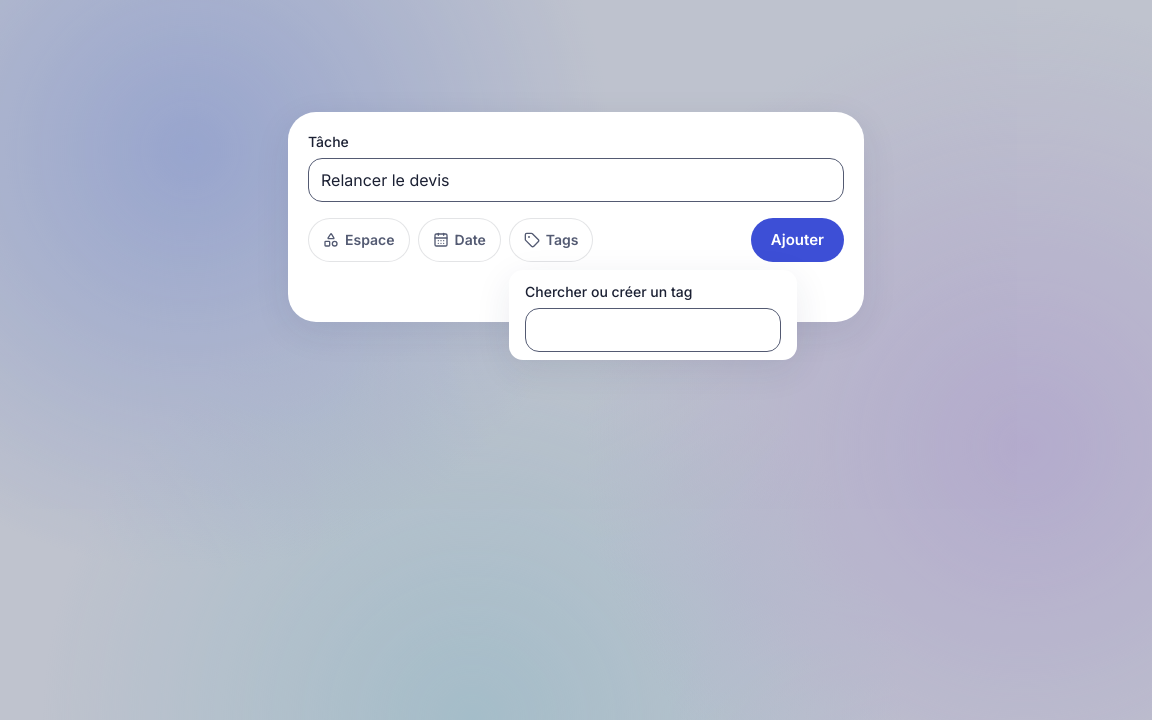
it: ajout rapide : popups des pastilles dans le tiroir › Échap dans la recherche de tags ferme seulement la popup : tiroir ouvert, titre gardé
This screenshot has width=1152, height=720.
Earlier steps of the test are not shown.
In the field labelled "Chercher ou créer un tag": (653, 330) 525,308 -> 781,352, type "dev"
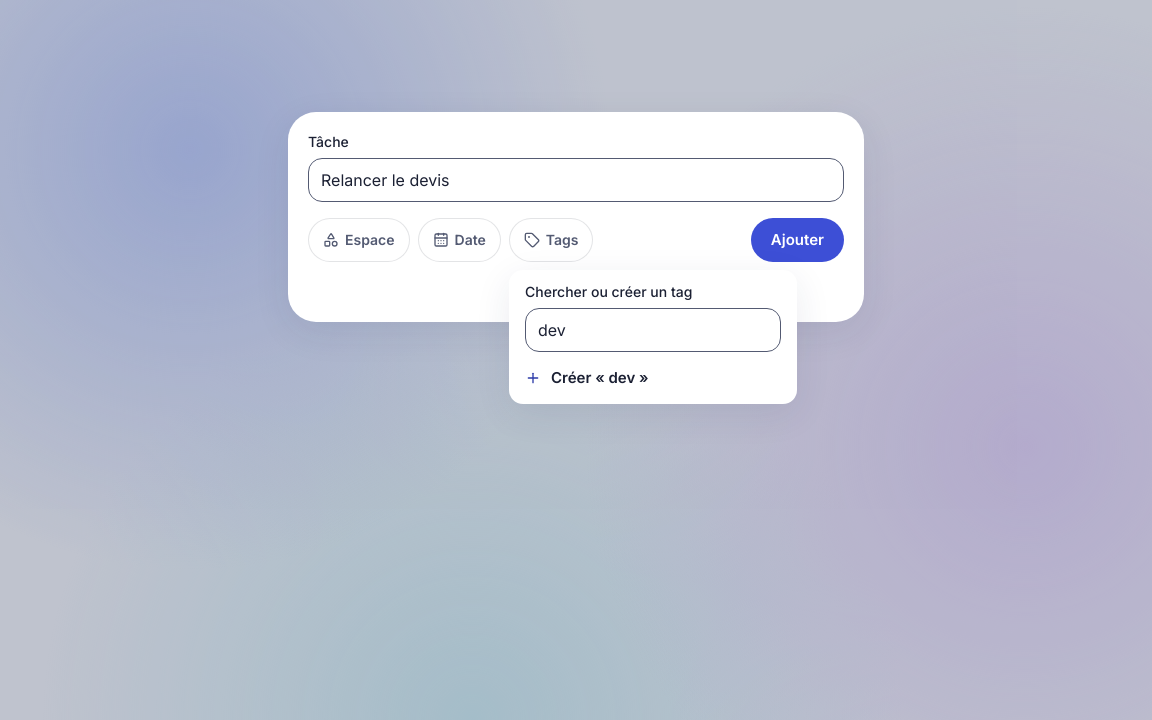
Press Escape in the field labelled "Chercher ou créer un tag", box 525,308 -> 781,352
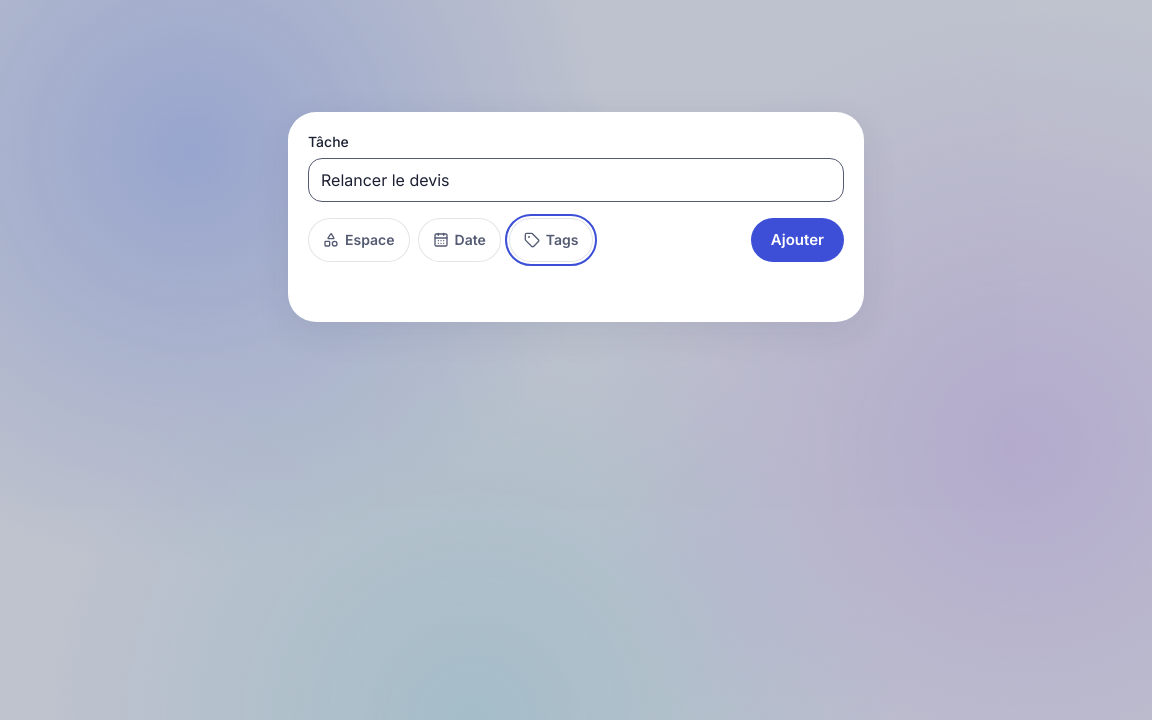
Now the dialog named "Ajouter une tâche" is shown, box 288,112 -> 864,322
Now the label "Chercher ou créer un tag" is gone
